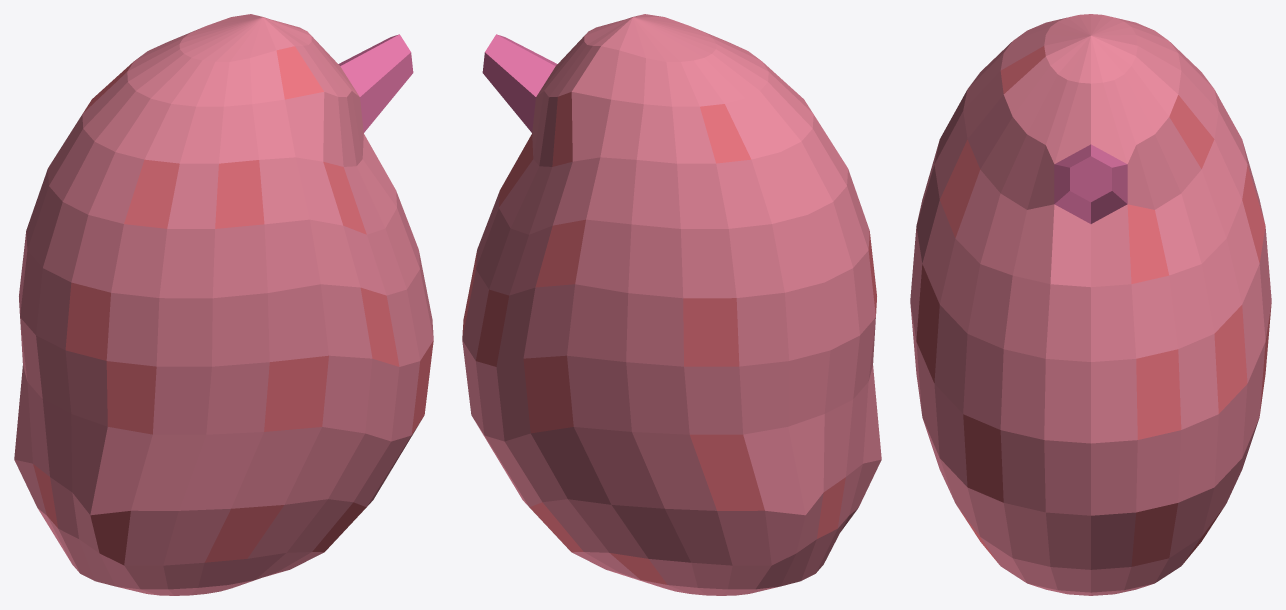
The model's file is lung.fbx.
3 renders of one model, left to right at view 1: azimuth 30°, elevation 25°; view 2: azimuth 150°, elevation 25°; view 3: azimuth 270°, elevation 25°, orthographic. The views are drawn at different scales.
Visible parts, largest first — view 1: Lung; view 2: Lung; view 3: Lung.
Part boxes in pixels (x1,y1,x2,y2): Lung: [14, 14, 433, 595]; Lung: [462, 14, 881, 595]; Lung: [910, 14, 1271, 595].
Bounding box in the file's own units: 87.22 × 120 × 69.75.
